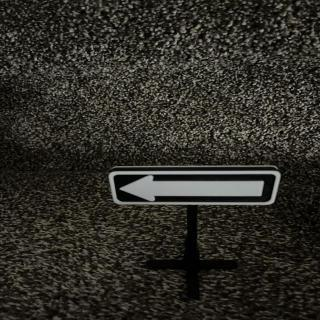sign_oneway_left: (109, 167, 283, 207)
